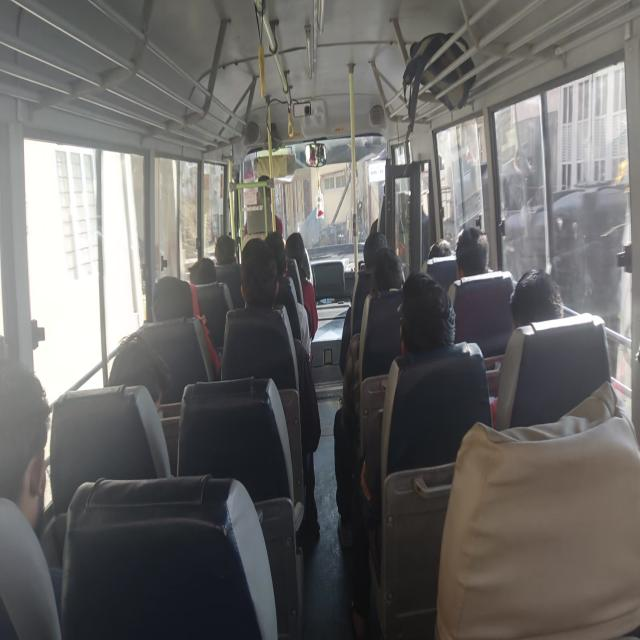person: (434, 380, 640, 638), (351, 270, 493, 636), (237, 237, 321, 538), (334, 245, 405, 549), (0, 358, 62, 638), (489, 267, 564, 427), (339, 231, 388, 375), (264, 231, 312, 361), (108, 334, 172, 418), (285, 231, 318, 341), (510, 266, 564, 330), (455, 226, 490, 278), (371, 246, 405, 292), (189, 257, 216, 285), (214, 233, 236, 264), (428, 238, 452, 258)
